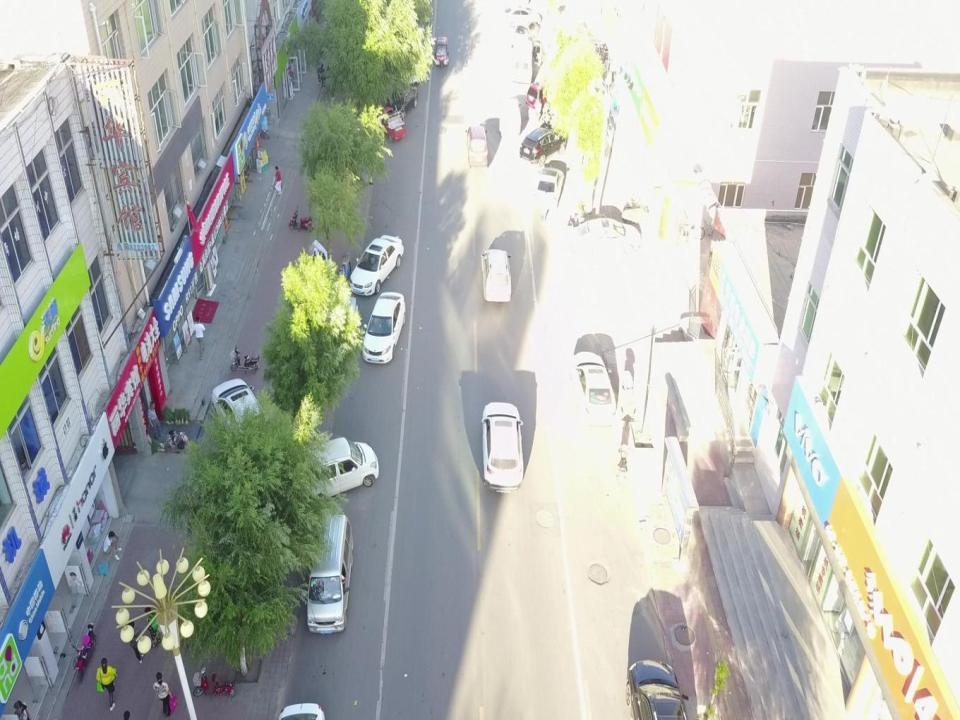car: (210, 378, 264, 454), (482, 401, 524, 496), (626, 658, 690, 720), (348, 232, 404, 298), (360, 290, 407, 365), (570, 349, 616, 421), (569, 215, 642, 258), (518, 126, 568, 166), (378, 83, 419, 119), (534, 165, 564, 212), (500, 7, 543, 28)
van: (304, 511, 355, 635), (287, 436, 378, 505), (508, 37, 543, 86), (481, 247, 512, 302), (525, 76, 564, 111), (465, 125, 490, 169)
